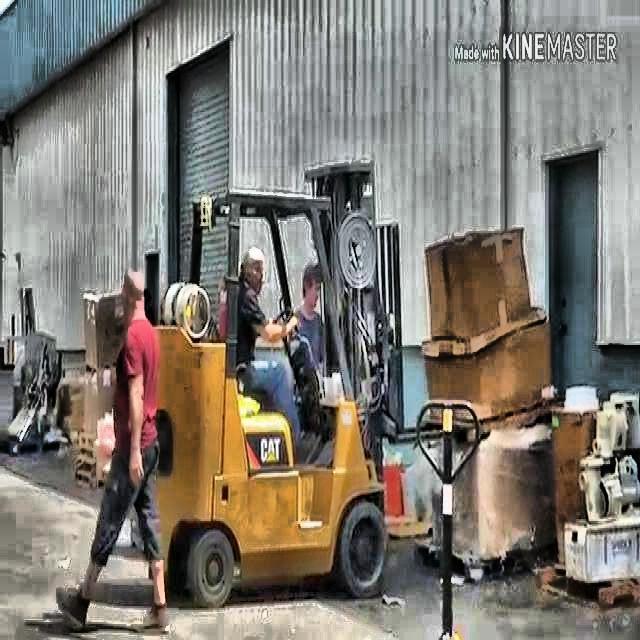bull_dozer/loader/grader: (144, 156, 406, 610)
person: (55, 266, 177, 638)
